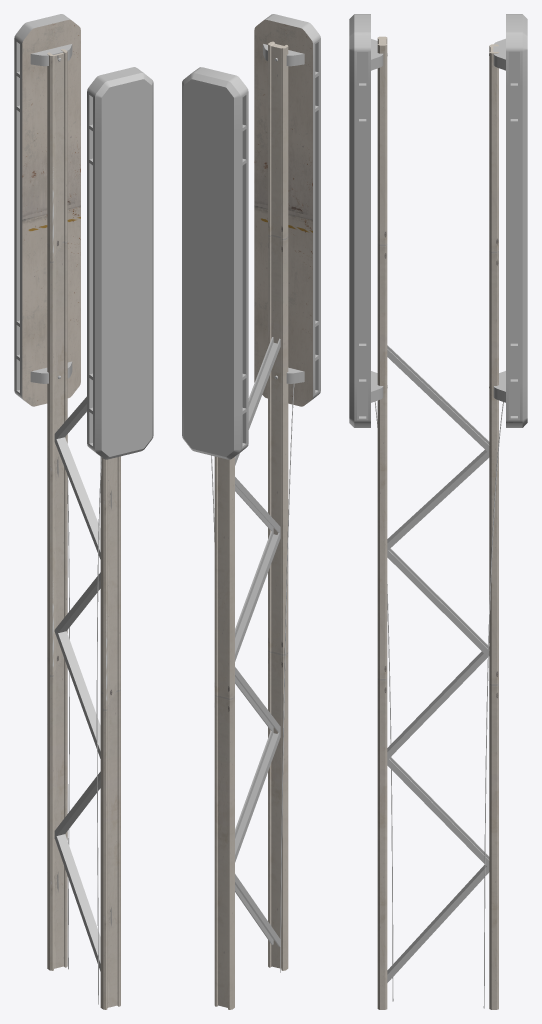
File: KB3D_CBP_Antenna_D.fbx
3 views of the same model, side by side, from view 1: azimuth 30°, elevation 25°; view 2: azimuth 150°, elevation 25°; view 3: azimuth 270°, elevation 25° (orthographic). The views are drawn at different scales.
Parts seen in each view (by area): view 1: KB3D_CBP_Antenna_D_Main; view 2: KB3D_CBP_Antenna_D_Main; view 3: KB3D_CBP_Antenna_D_Main.
Boxes of the visible parts, x1,y1,x2,y2 form: KB3D_CBP_Antenna_D_Main: [14, 14, 153, 1009]; KB3D_CBP_Antenna_D_Main: [182, 14, 320, 1009]; KB3D_CBP_Antenna_D_Main: [349, 14, 527, 1009].
Size of the model in its own units: 69.1 by 1055 by 174.
